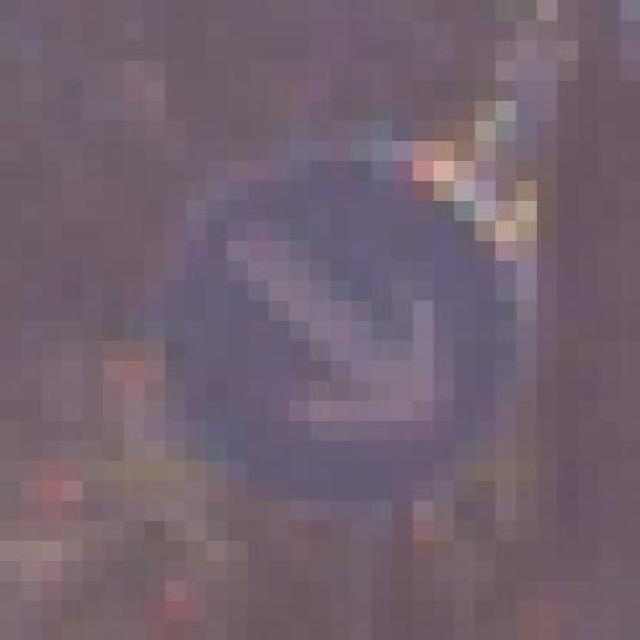Keep-Right: (103, 120, 557, 540)
